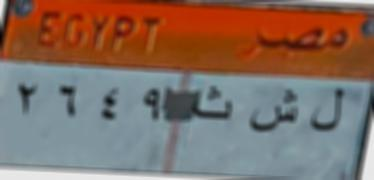9: (140, 78, 166, 124), (100, 82, 120, 131)
laam: (308, 82, 346, 140)
sheen: (246, 84, 300, 144)
thaa: (188, 77, 234, 131)
